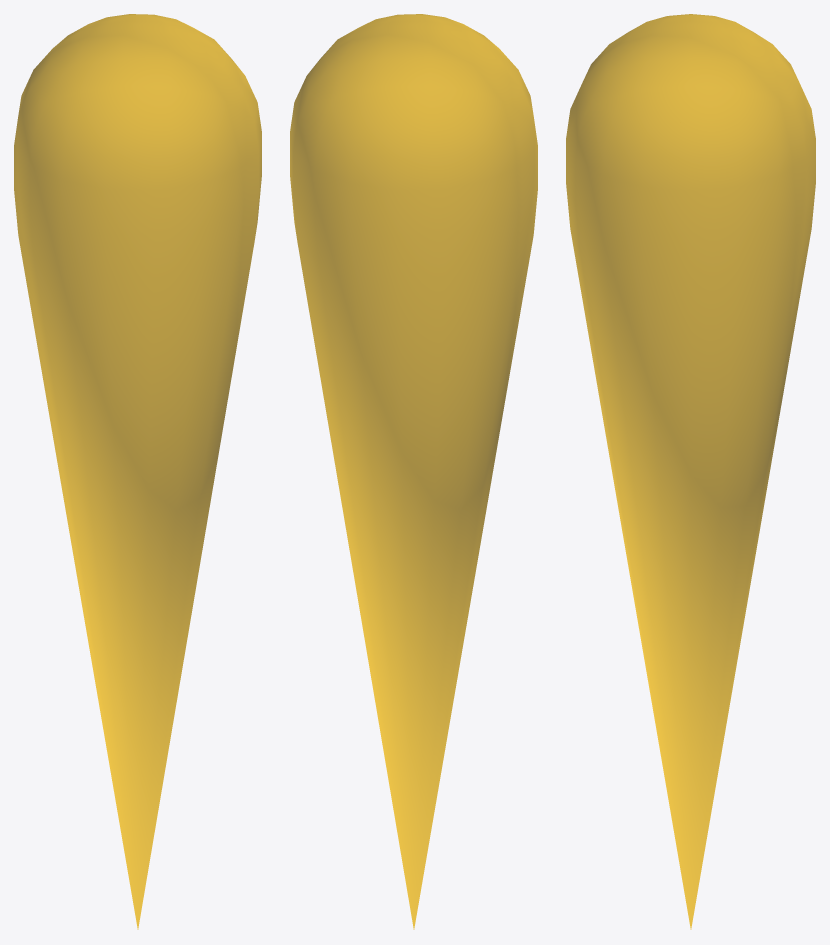
The model's file is Bolt.obj.
The picture shows the model from 3 angles, left to right: view 1: azimuth 30°, elevation 25°; view 2: azimuth 150°, elevation 25°; view 3: azimuth 270°, elevation 25°; orthographic projection.
Size of the model in its own units: 2 by 8 by 2.
